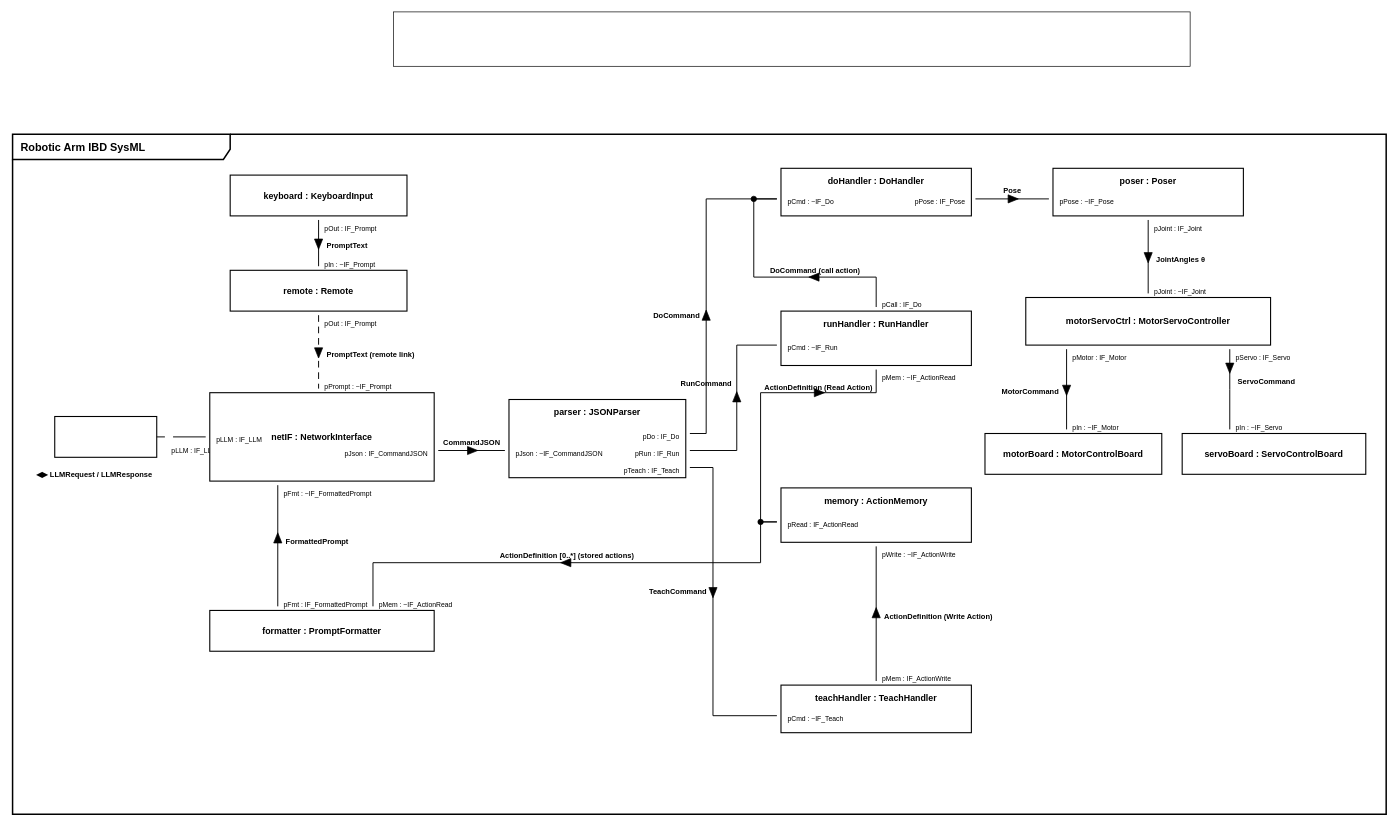
This 1399x827 diagram has some shape labels left out. Each missing label, with the centre of its shape:
Robotic Arm Test tubes: point 791,38
«block, external» LanguageModelAPI: point 105,437
